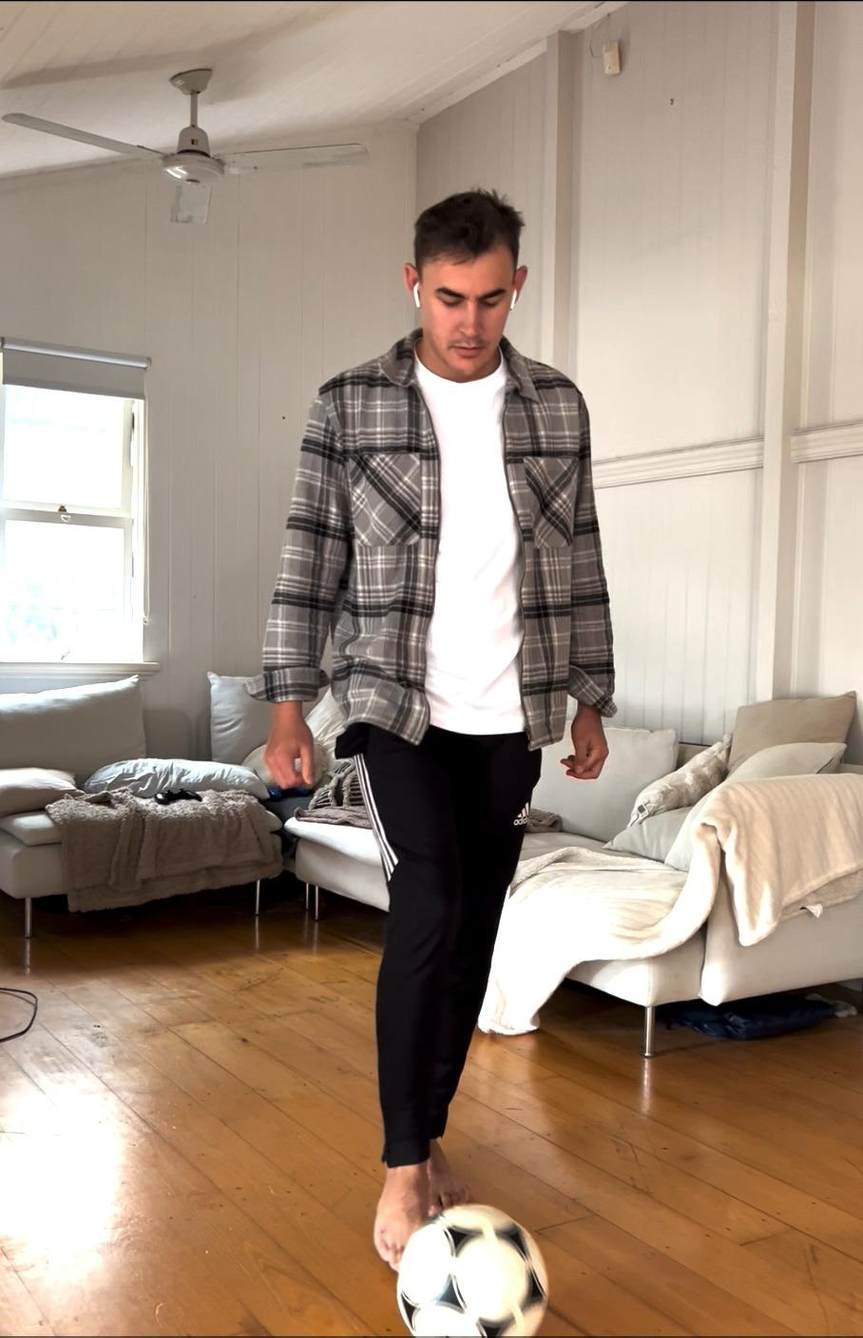ball: (386, 1205, 557, 1336)
foot: (373, 1160, 428, 1271), (427, 1138, 472, 1216)
person: (264, 190, 620, 1268)
